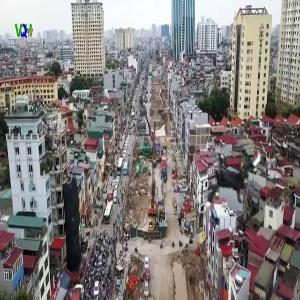drone: (185, 135, 273, 223)
